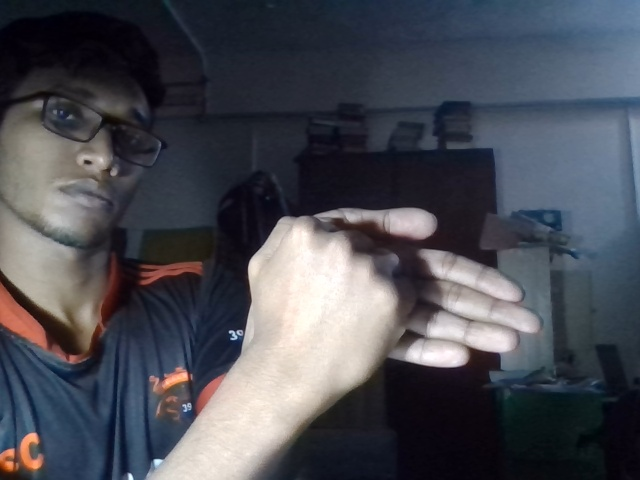b: (231, 202, 547, 386)
